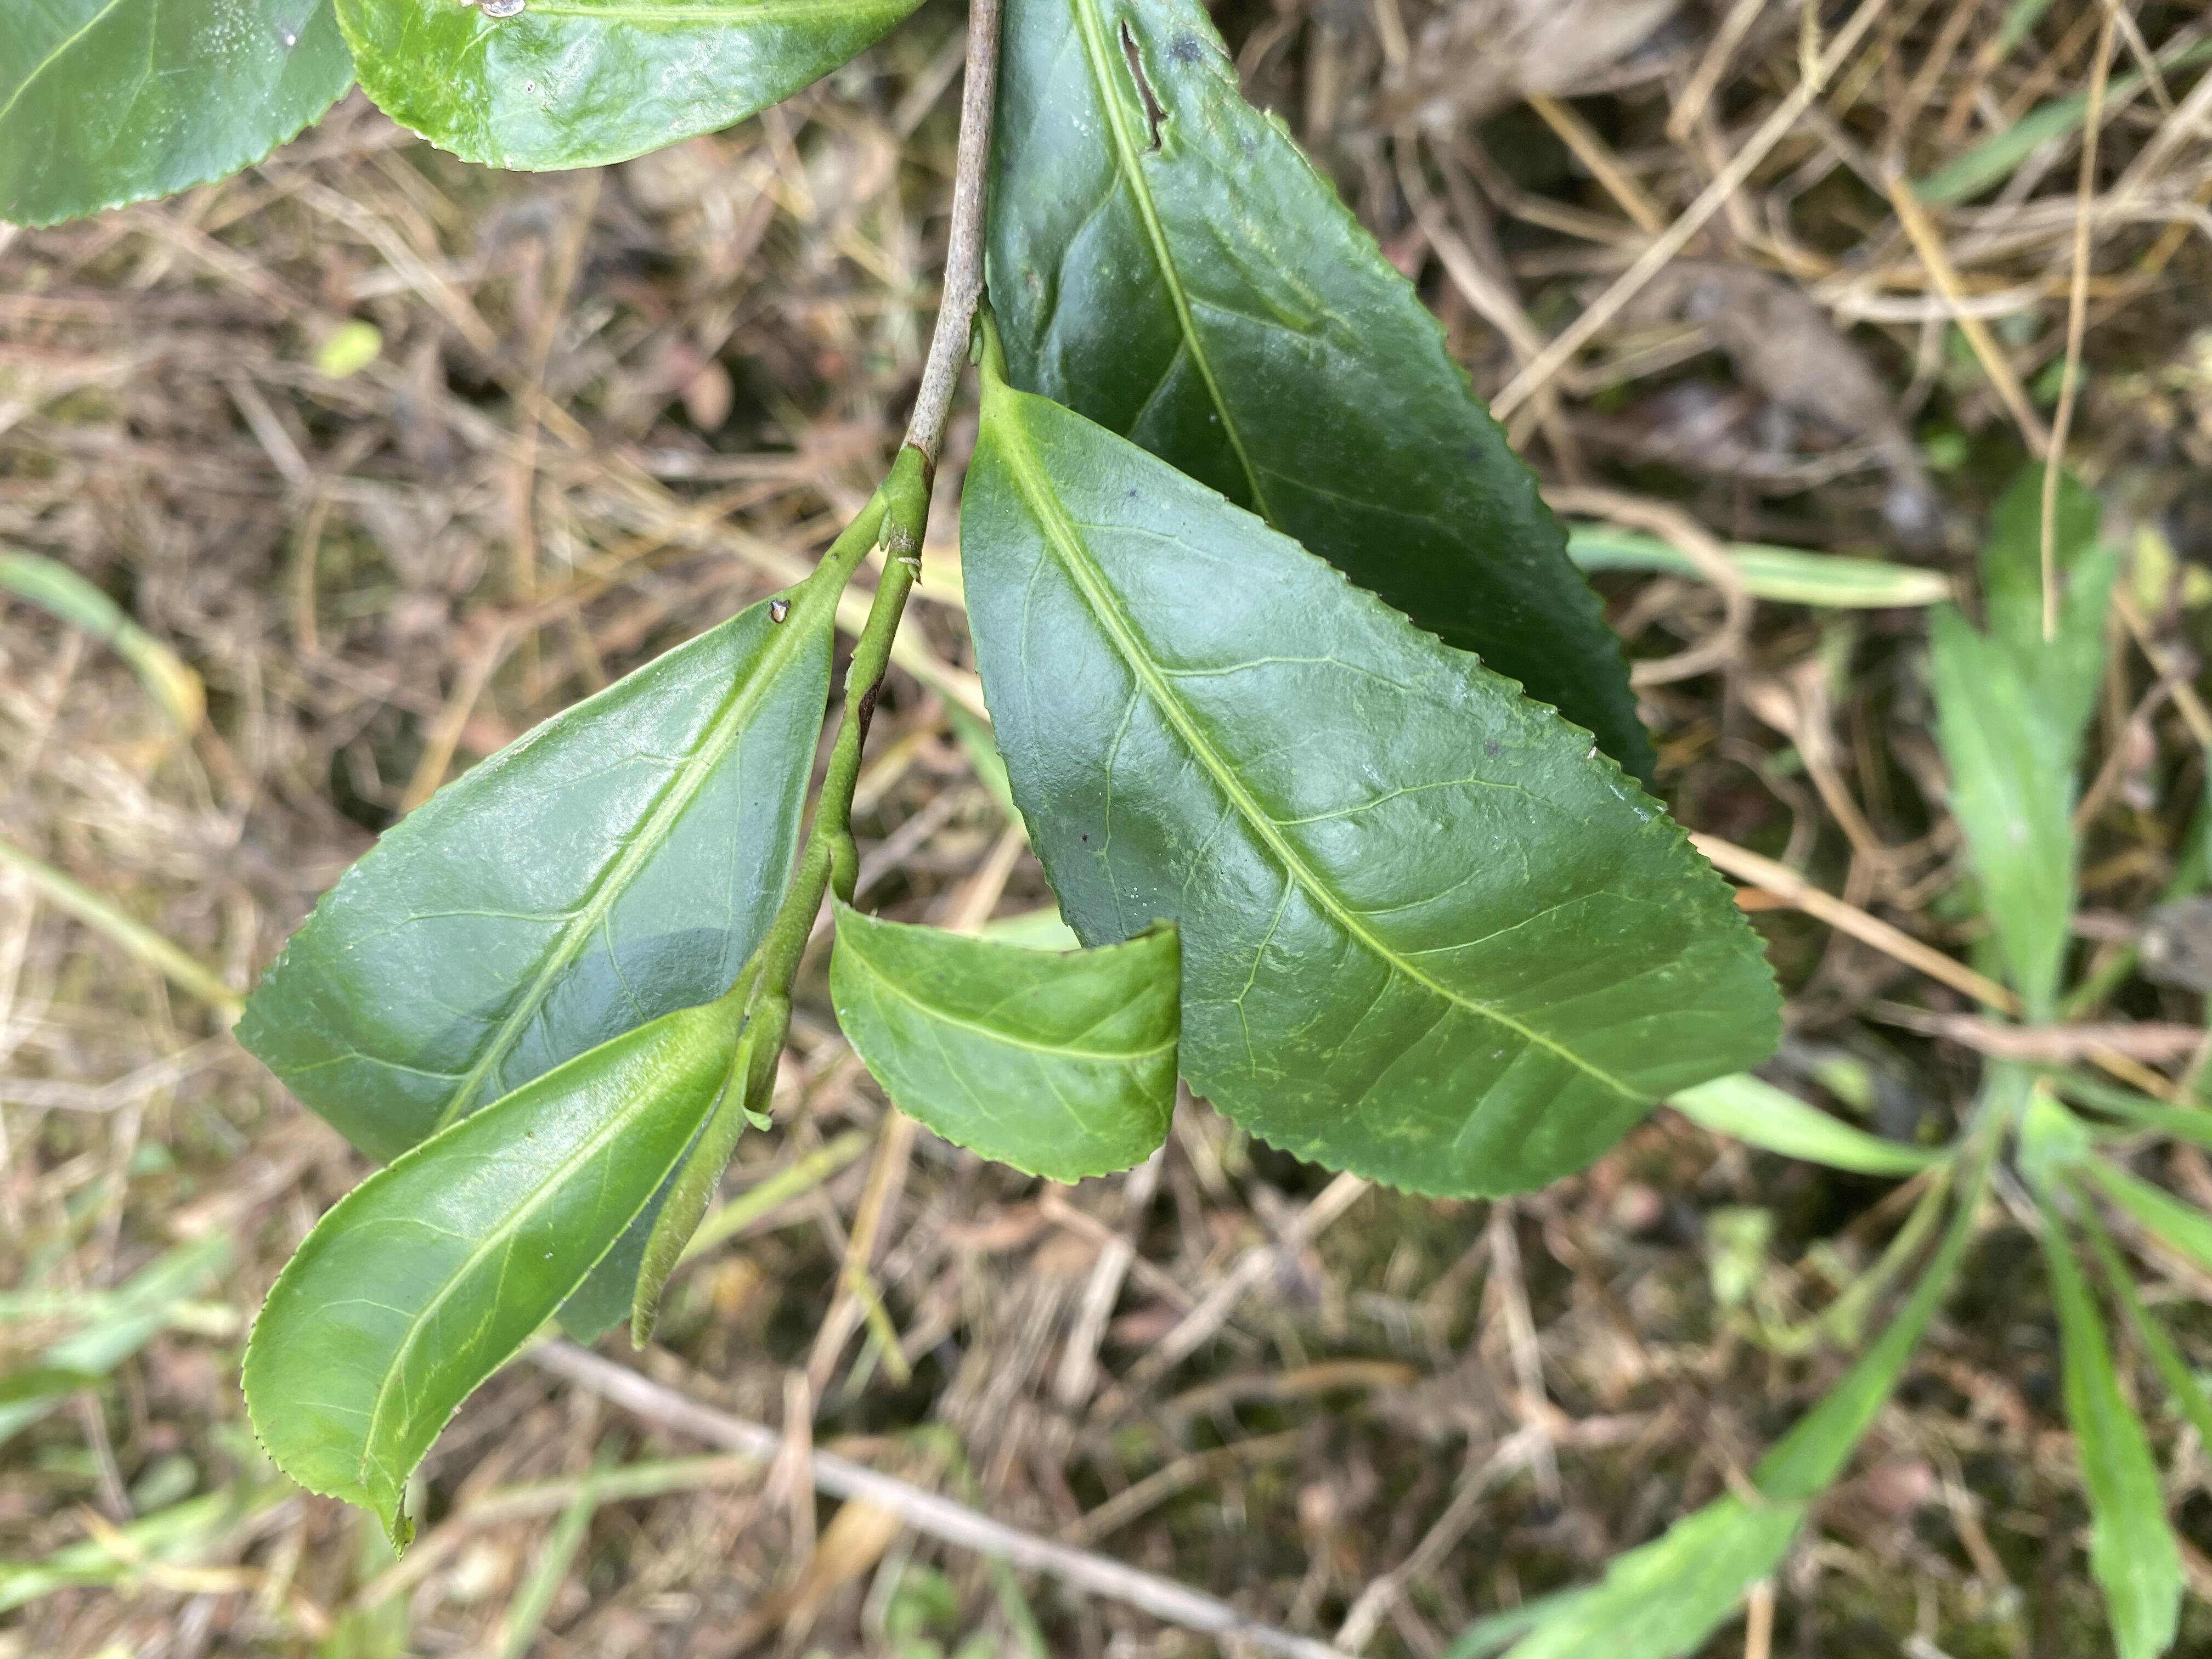chihuo_low: (982, 3, 1665, 777)
healthy: (956, 378, 1784, 1201), (240, 993, 751, 1549), (827, 904, 1188, 1187)
tanju_low: (233, 568, 834, 1176)
